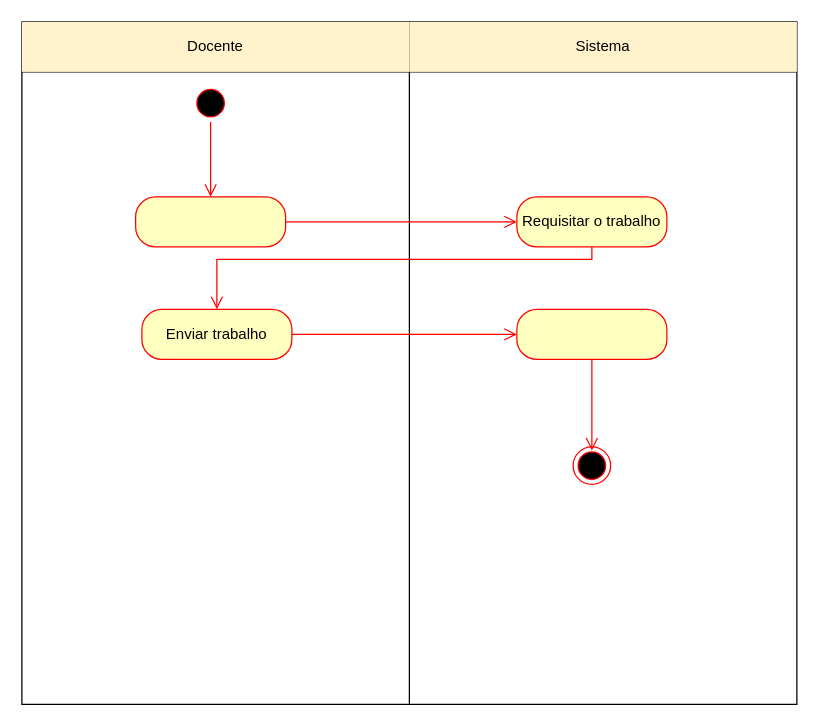
This 819x726 diagram has some shape labels left out. The centre of each missing label's shape, as x and y in pixels:
"Adcionar trabalho" belongs at [210,221].
"Gravar Trabalho" belongs at [591,333].
